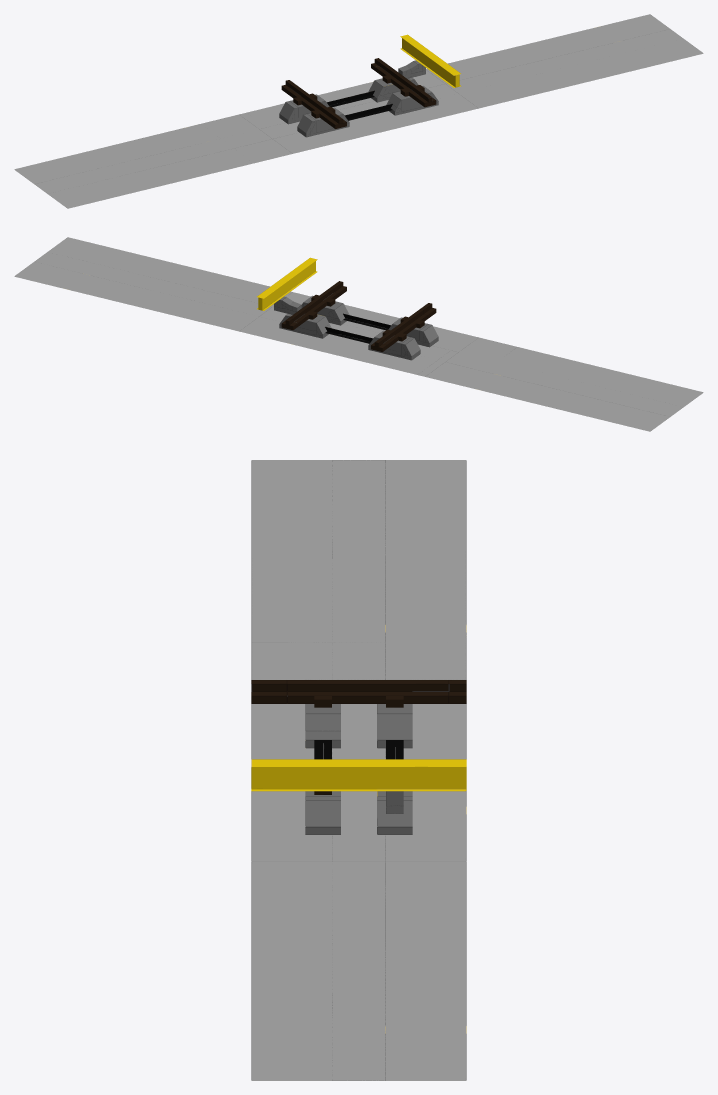
Rendered from athen-metro-rail-1.obj.
3 views of the same model, one above another, from view 1: azimuth 30°, elevation 25°; view 2: azimuth 150°, elevation 25°; view 3: azimuth 270°, elevation 25° (orthographic). The views are drawn at different scales.
Visible parts, largest first — view 1: cube; view 2: cube; view 3: cube.
Boxes of the visible parts, <box> form: cube: <box>14,14,703,208</box>; cube: <box>14,237,703,431</box>; cube: <box>251,460,466,1080</box>.
Bounding box in the file's own units: 10.24 × 0.5952 × 1.5.
Materials: 1 (1 with a texture image).
